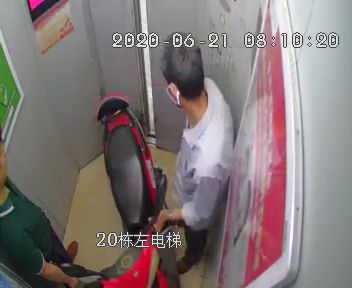Electric-bicycle: (61, 94, 165, 286)
